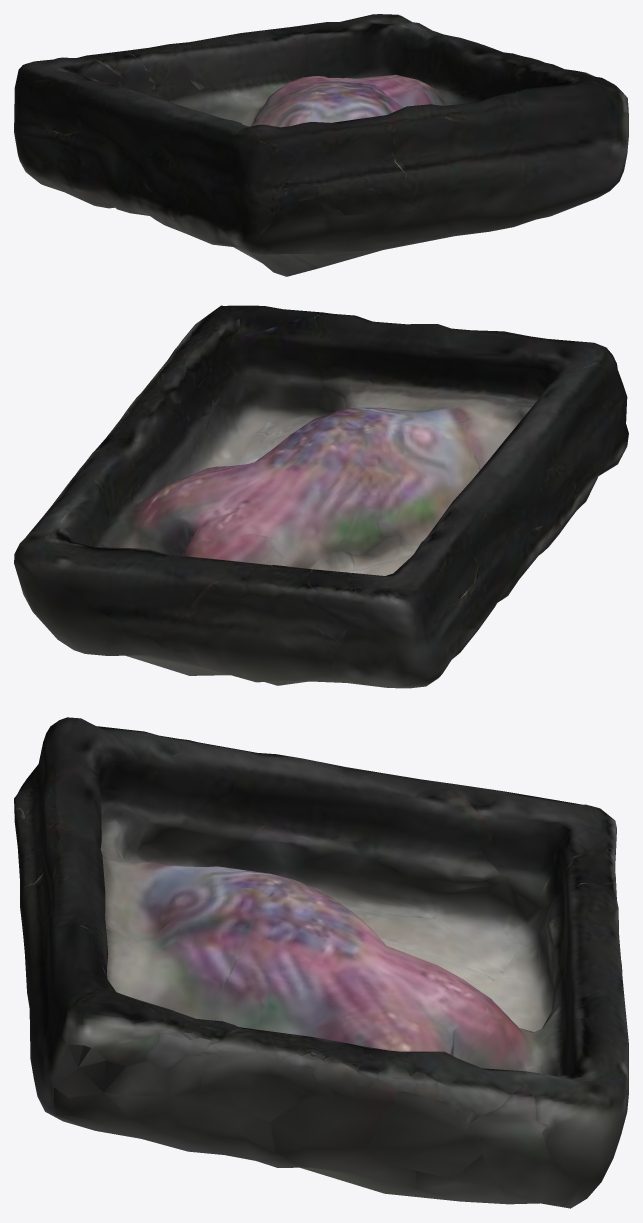
File: hall.glb
3 views of the same model, one above another, from view 1: azimuth 30°, elevation 25°; view 2: azimuth 150°, elevation 25°; view 3: azimuth 270°, elevation 25° (orthographic). The views are drawn at different scales.
Size of the model in its own units: 0.5549 by 0.3479 by 0.5514.
Materials: 1 (1 with a texture image).
